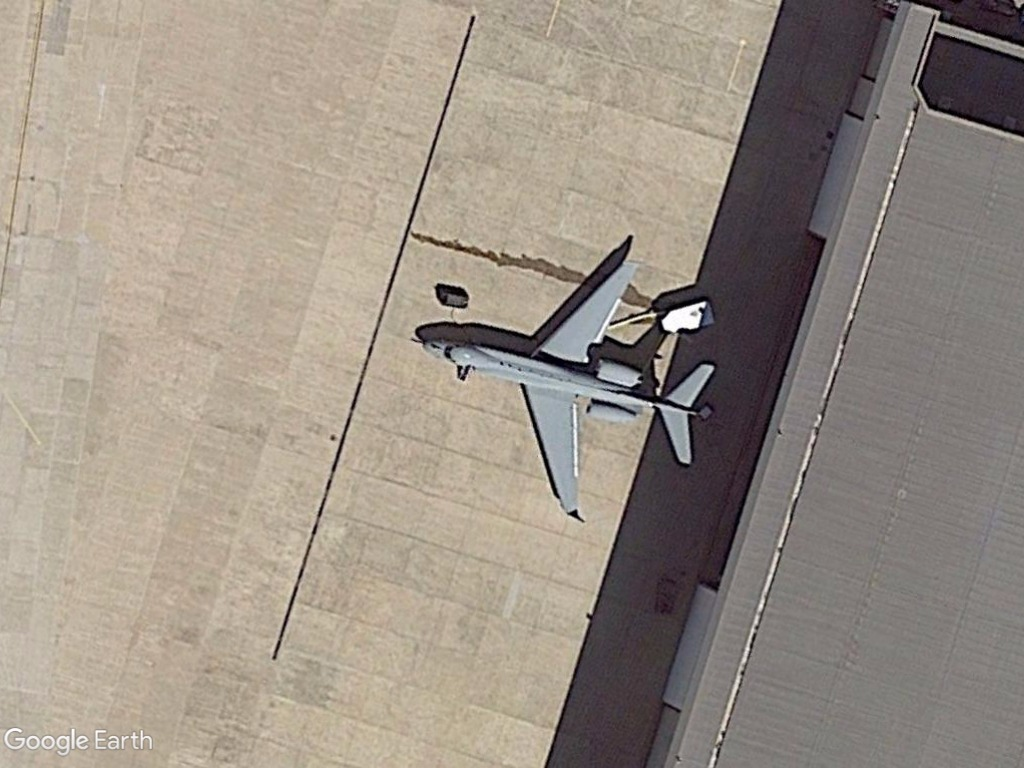chartered: (414, 253, 713, 526)
